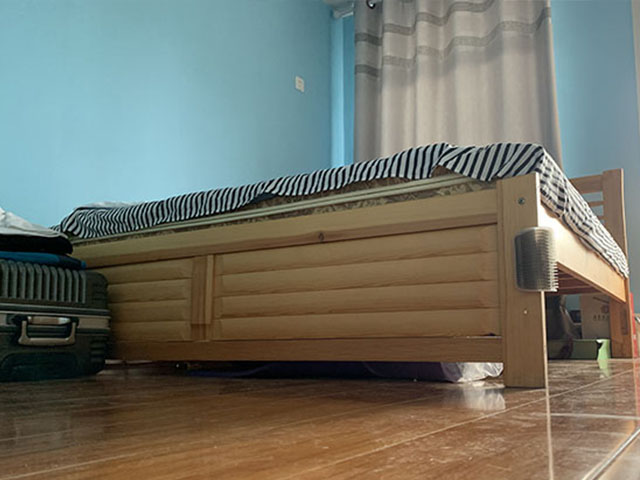bed: (80, 141, 630, 390)
curtain: (349, 4, 562, 164)
